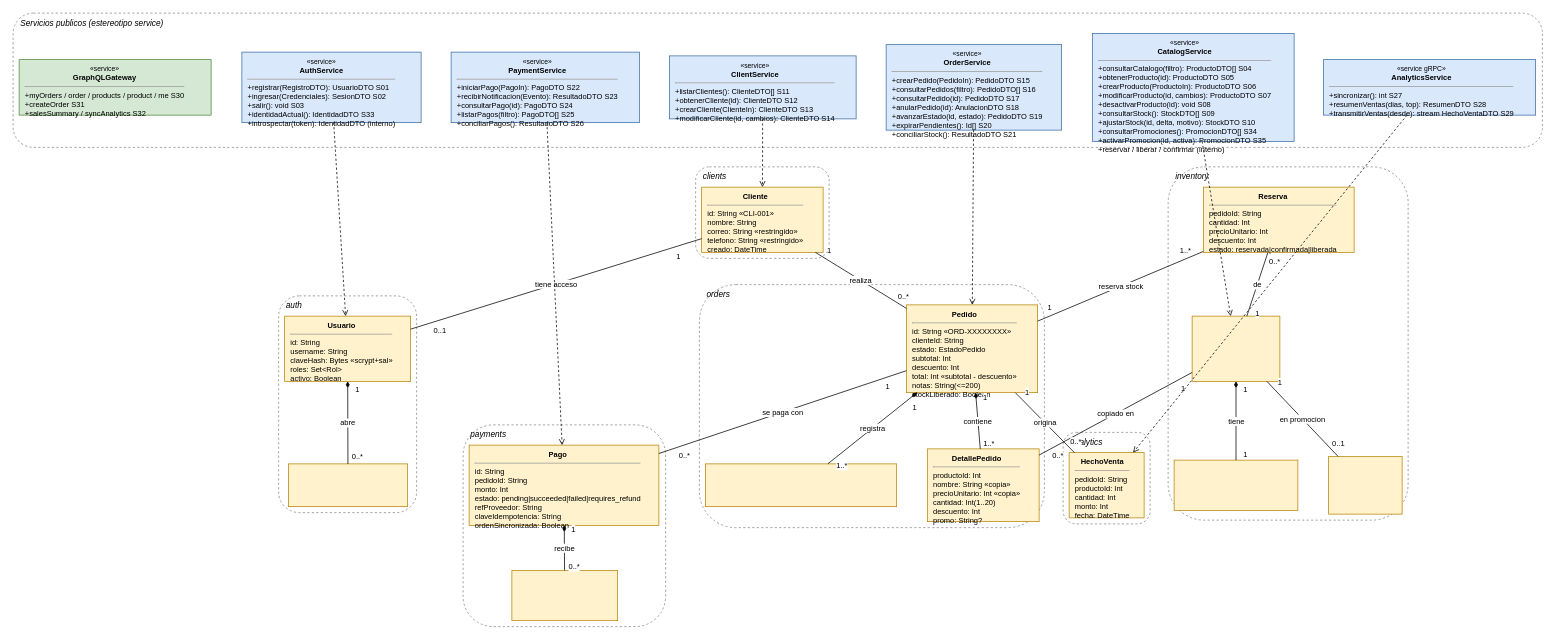
Image size: 1556x640. Some labels were removed from this diagram. Here are the shapes that lost their labels. From the top down, the centre of each, then its label:
At [1235,348]: "Producto id: Int nombre: String categoria: Categoria precio: Int activo: Boolean".
At [348,485]: "Sesion tokenHash: String «sha256» expira: DateTime".
At [801,485]: "EventoPedido evento: creado|pagado|estado|cancelado|expirado fecha: DateTime".
At [1235,484]: "Stock enMano: Int reservado: Int «enMano >= reservado >= 0»".
At [1365,485]: "Promocion id: Int tipo: «2x1» etiqueta: String activa: Boolean".
At [564,595]: "EventoWebhook eventoId: String «unico» tipo: String recibido: DateTime".
